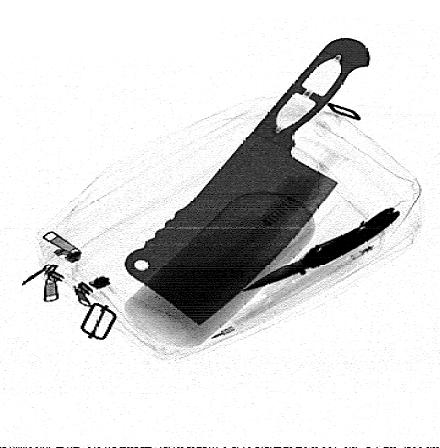Knife: (123, 37, 370, 327), (241, 207, 402, 293)
